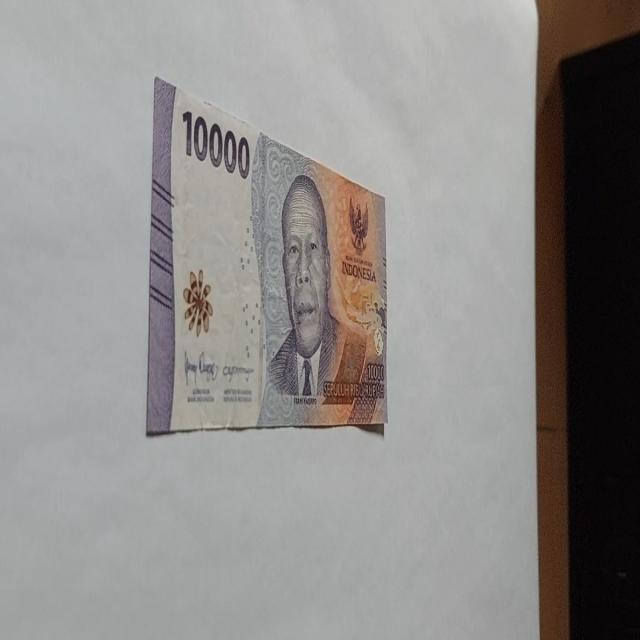sepuluh ribu rupiah: (146, 75, 388, 438), (256, 172, 370, 428), (181, 108, 251, 180)
